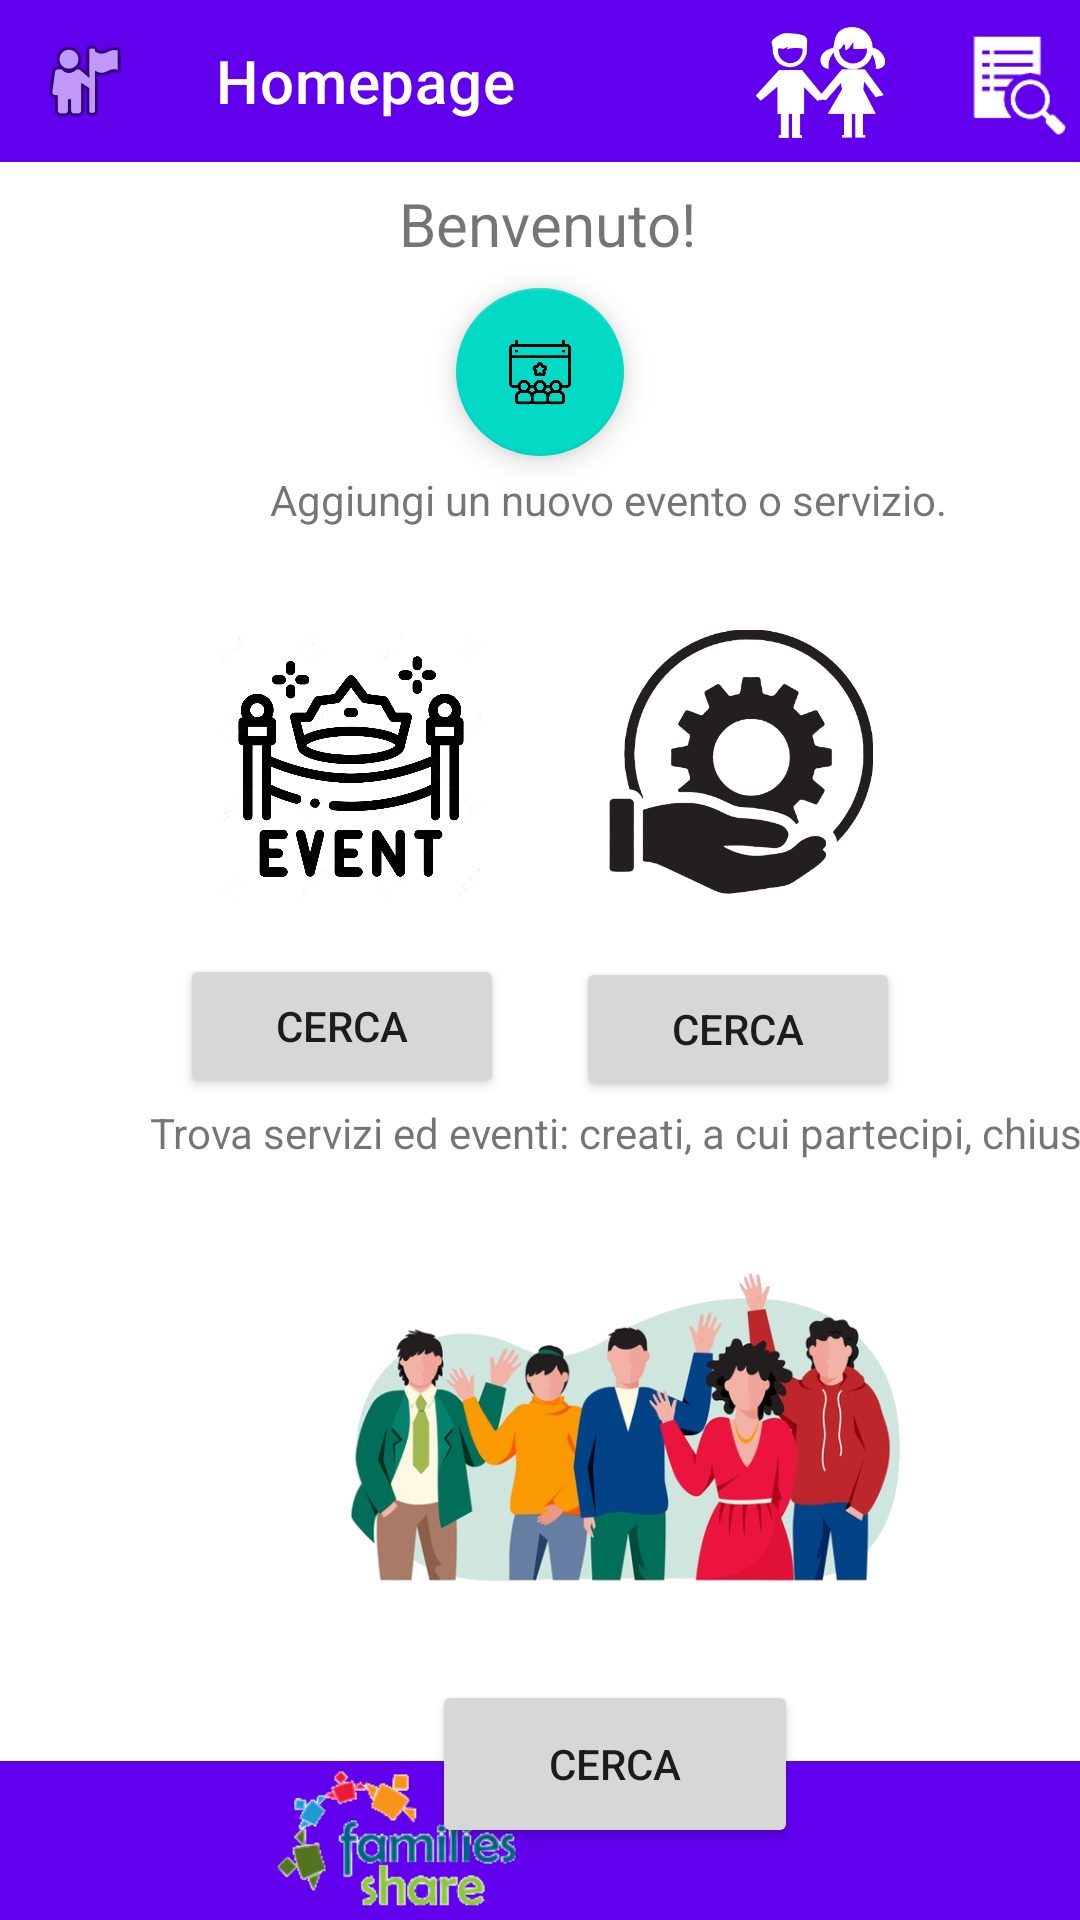

Named icons in this screenshot (1080x1920) and their centers, (x=x, y=y):
child: (x=820, y=82)
